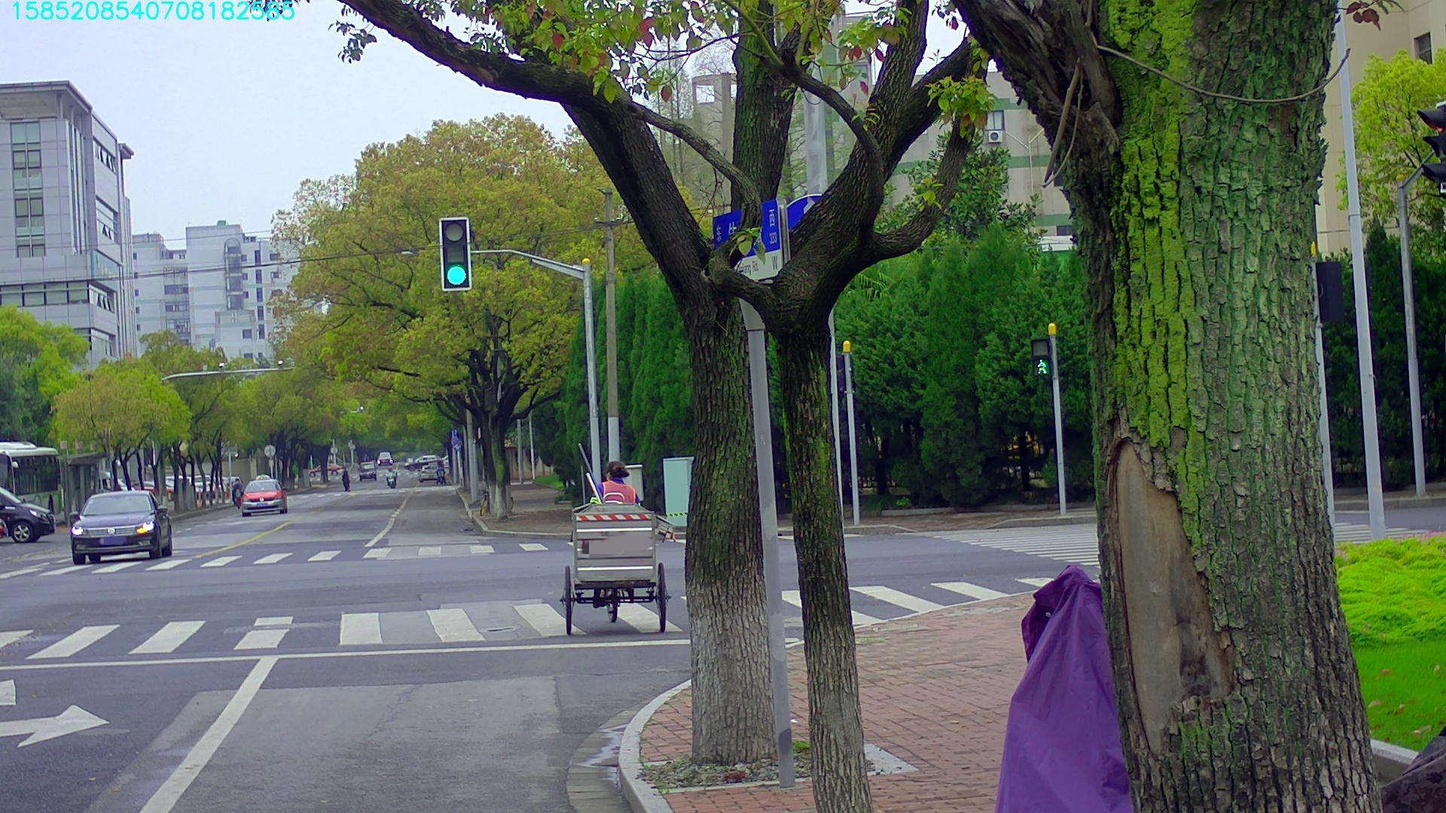green: (440, 218, 470, 288)
